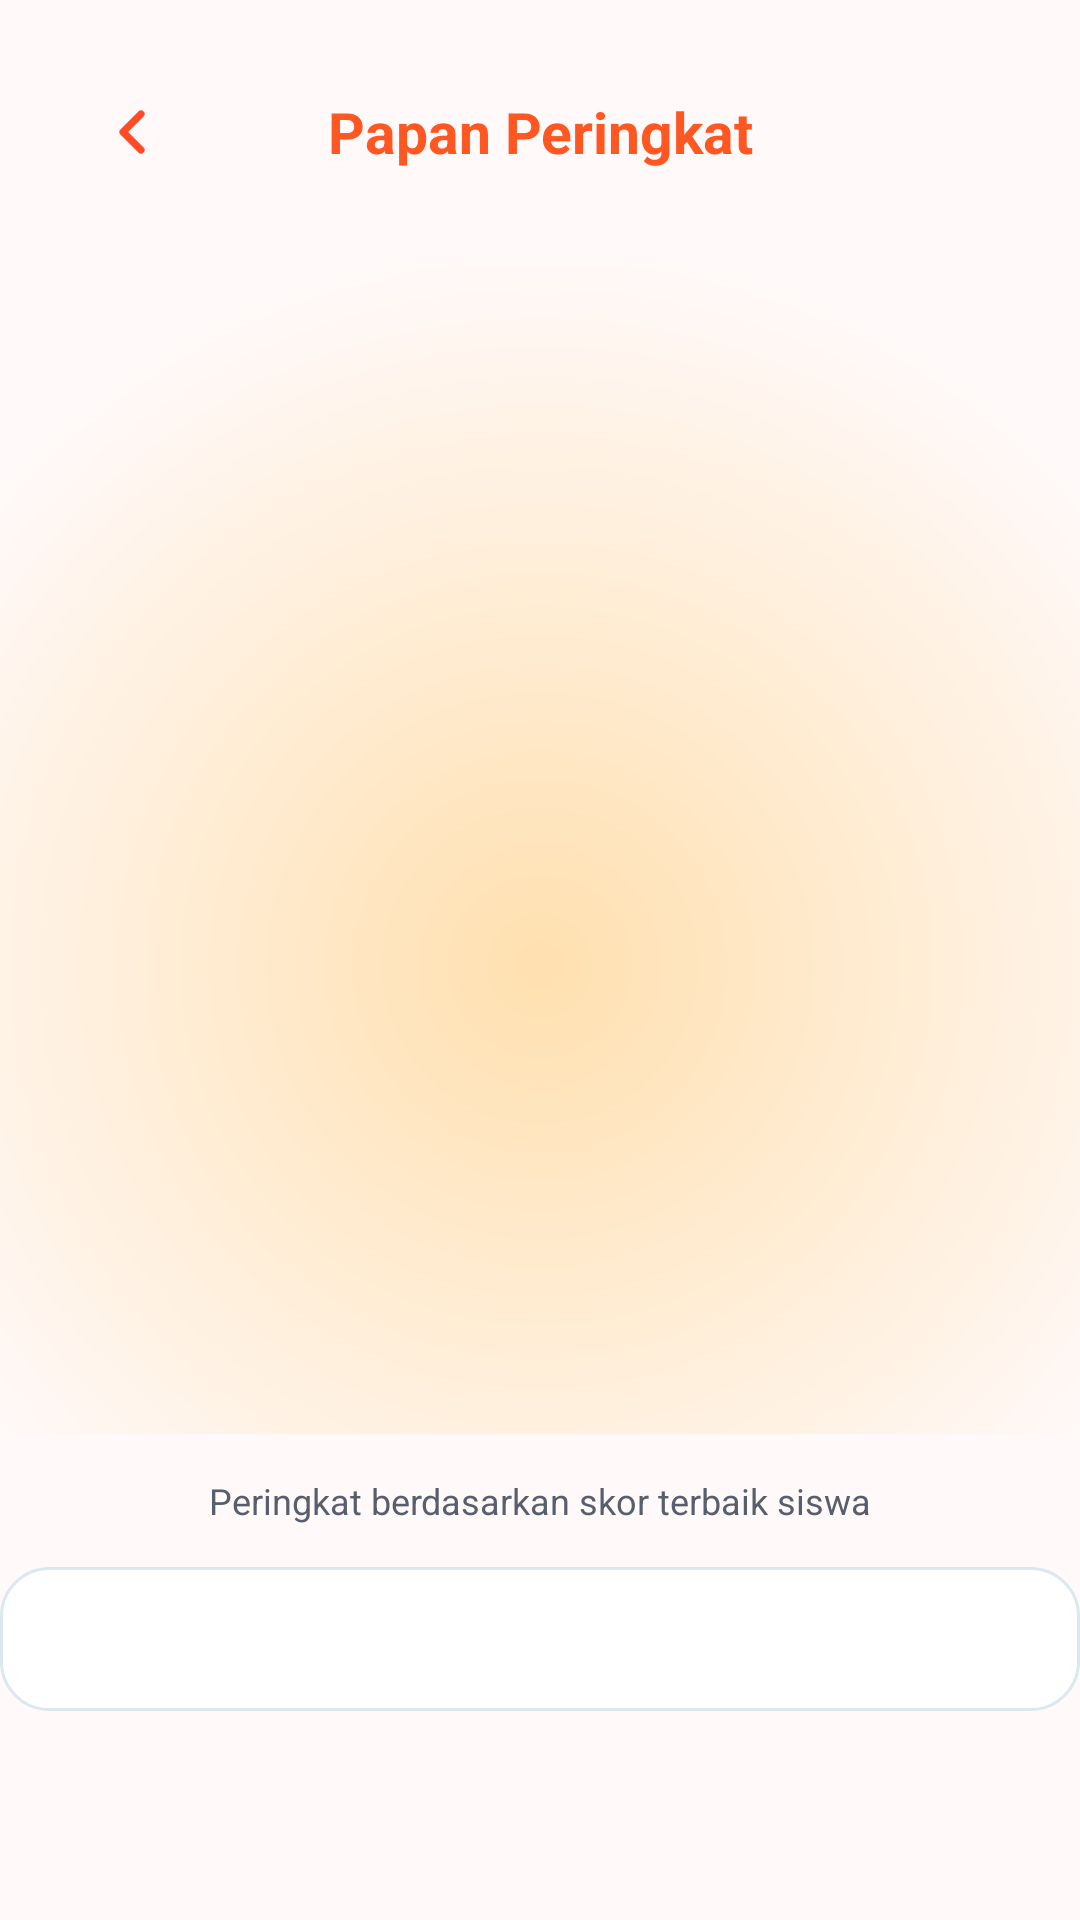

Named icons in this screenshot (1080 x 1920) and their bounding boxes, (x1=x1, y1=y1, x2=x2, y2=y2):
Kembali: (x1=119, y1=110, x2=145, y2=154)
